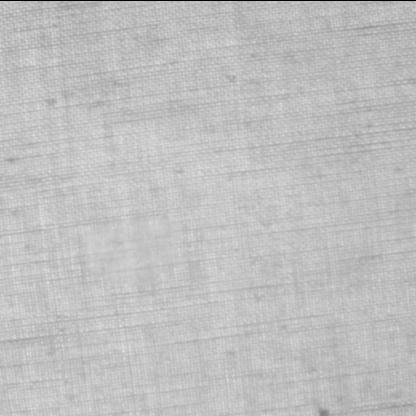oil spot: (74, 216, 184, 288)
